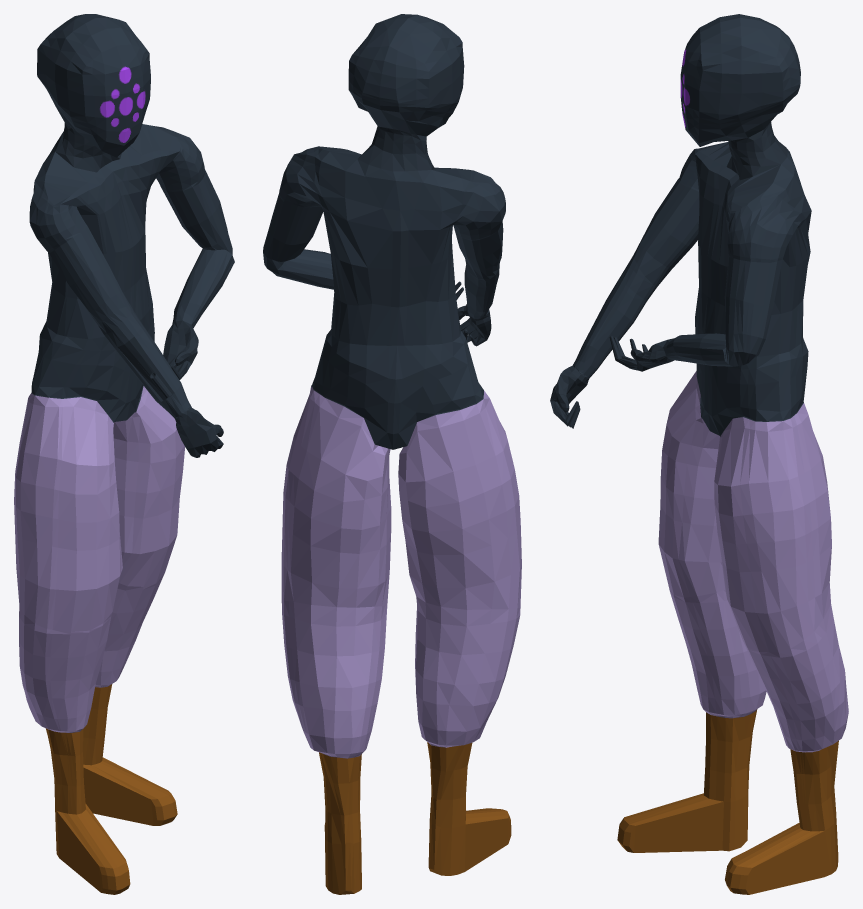
The model's file is Oracle_Attack_000003.obj.
3 renders of one model, left to right at view 1: azimuth 30°, elevation 25°; view 2: azimuth 150°, elevation 25°; view 3: azimuth 270°, elevation 25°, orthographic. The views are drawn at different scales.
Parts seen in each view (by area): view 1: Cube; view 2: Cube; view 3: Cube.
Boxes of the visible parts, left/top/right/bottom form: Cube: left=14, top=14, right=234, bottom=894; Cube: left=263, top=14, right=521, bottom=894; Cube: left=550, top=14, right=848, bottom=894.
Bounding box in the file's own units: 1.12 × 3.94 × 1.26.
